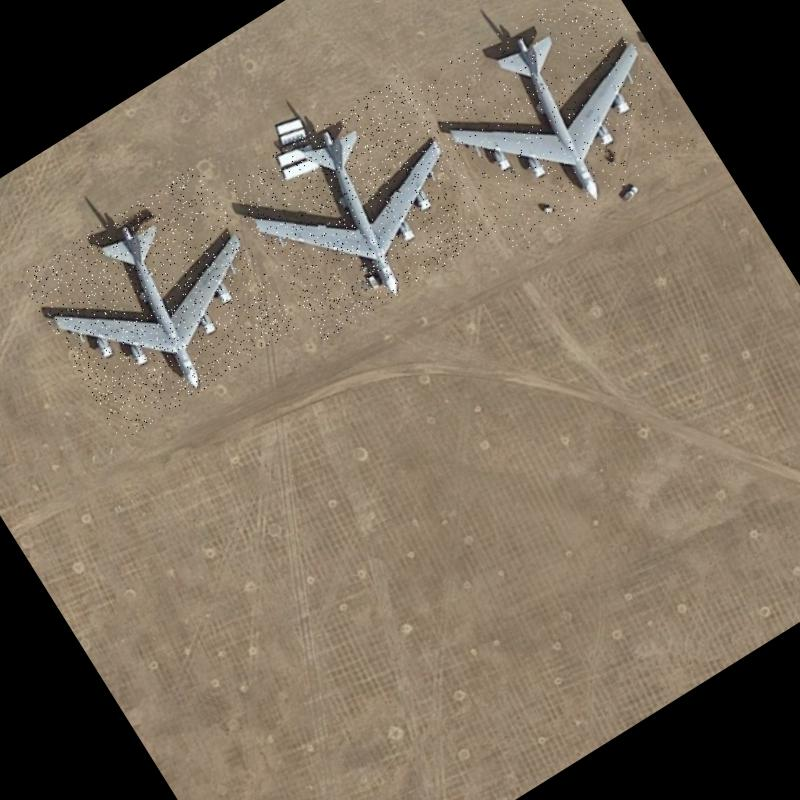A8: (17, 163, 301, 442), (224, 73, 500, 342), (411, 0, 698, 254)
